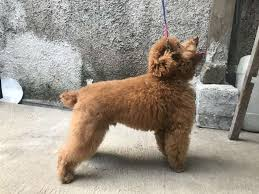Bulldog: (39, 24, 232, 185)
